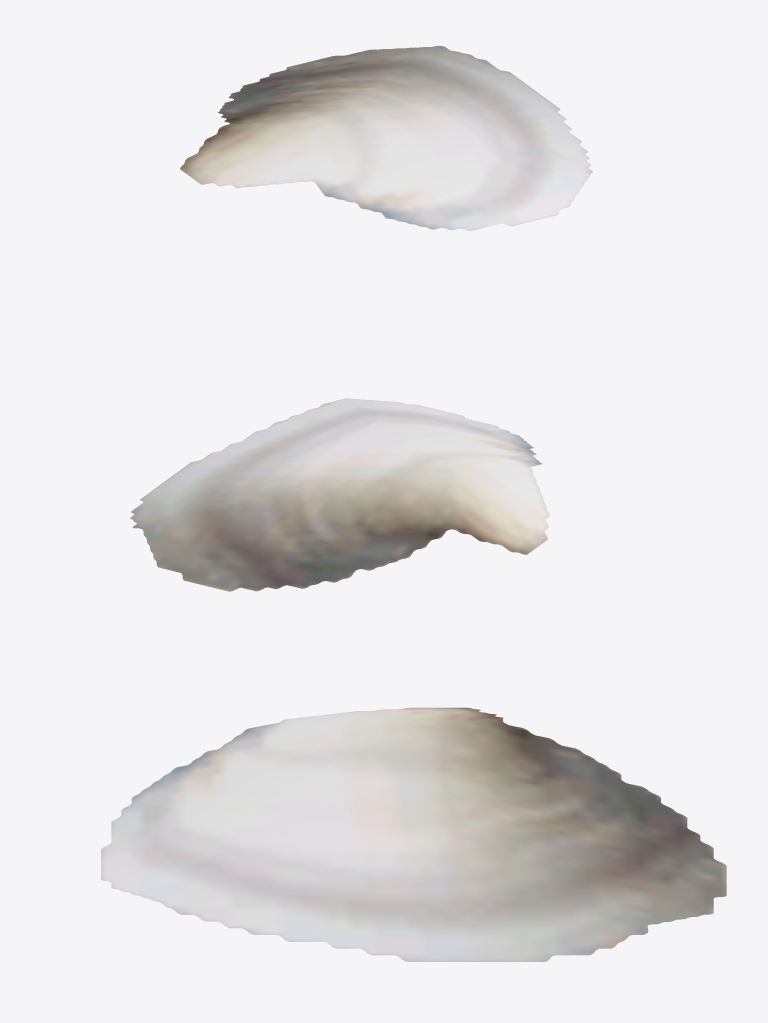
The model's file is shor_seashell_clam_a2_l1.fbx.
3 renders of one model, top to bottom at view 1: azimuth 30°, elevation 25°; view 2: azimuth 150°, elevation 25°; view 3: azimuth 270°, elevation 25°, orthographic. The views are drawn at different scales.
Parts seen in each view (by area): view 1: mesh_node; view 2: mesh_node; view 3: mesh_node.
Part boxes in pixels (x1,y1,x2,y2): mesh_node: (180, 45, 592, 230); mesh_node: (130, 398, 549, 591); mesh_node: (101, 707, 726, 961).
Bounding box in the file's own units: 0.0638 × 0.00782 × 0.0638.
1 material, 1 textured.
